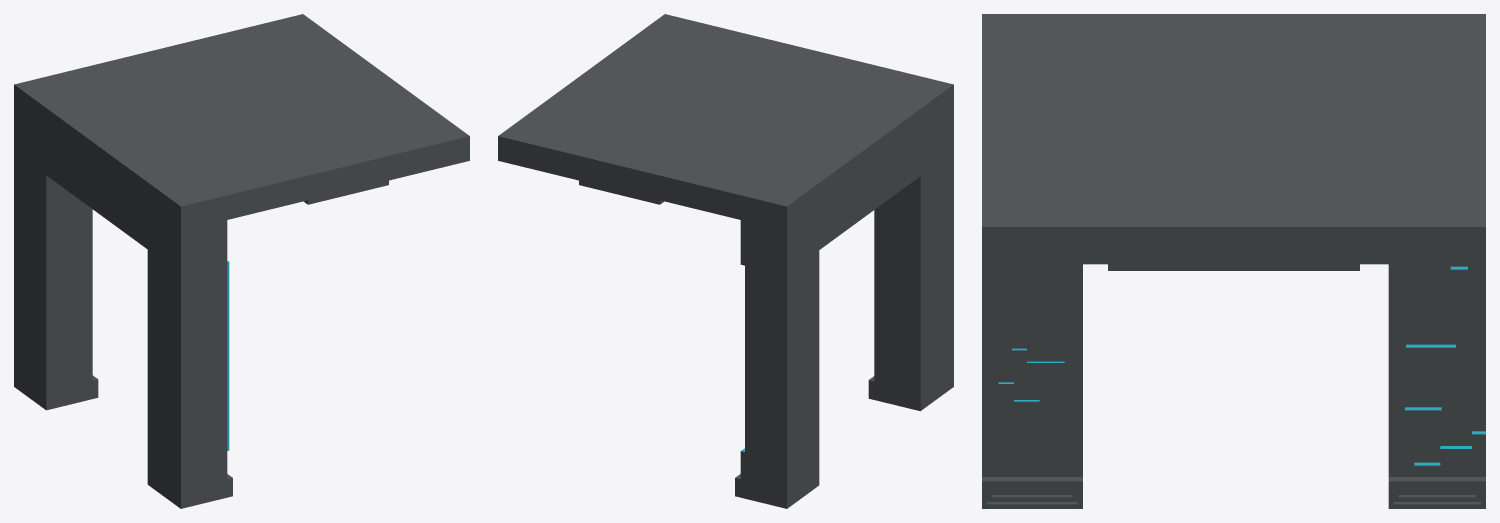
The model's file is EspacioContenidoPuertaInteriorBajoNI.gltf.
3 renders of one model, left to right at view 1: azimuth 30°, elevation 25°; view 2: azimuth 150°, elevation 25°; view 3: azimuth 270°, elevation 25°, orthographic. The views are drawn at different scales.
Parts seen in each view (by area): view 1: Cubo.32; view 2: Cubo.32; view 3: Cubo.32.
Boxes of the visible parts, x1,y1,x2,y2 form: Cubo.32: [14, 14, 469, 508]; Cubo.32: [498, 14, 953, 508]; Cubo.32: [982, 14, 1485, 508].
Bounding box in the file's own units: 2 × 2 × 2.
1 material, 1 textured.
